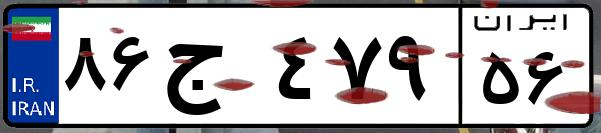4: (270, 28, 330, 110)
5: (475, 38, 525, 113)
6: (525, 38, 570, 115), (110, 28, 158, 98)
7: (330, 28, 385, 110)
8: (57, 26, 110, 100)
9: (385, 28, 445, 110)
ج: (158, 20, 270, 120)
